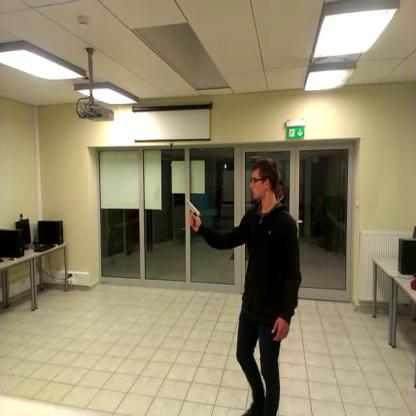Pistol: (176, 195, 206, 237)
